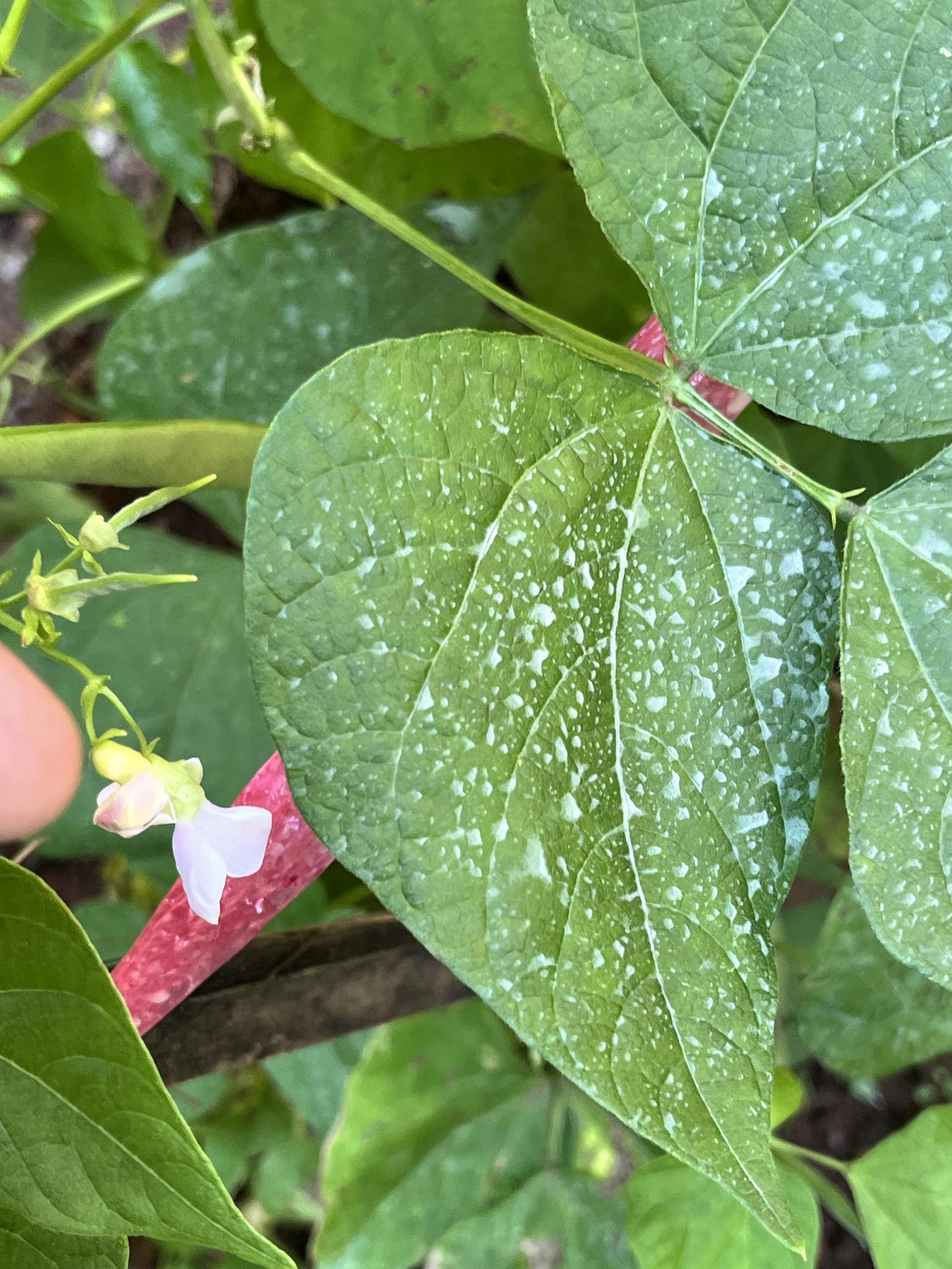embun tepung: (242, 0, 952, 1244)
